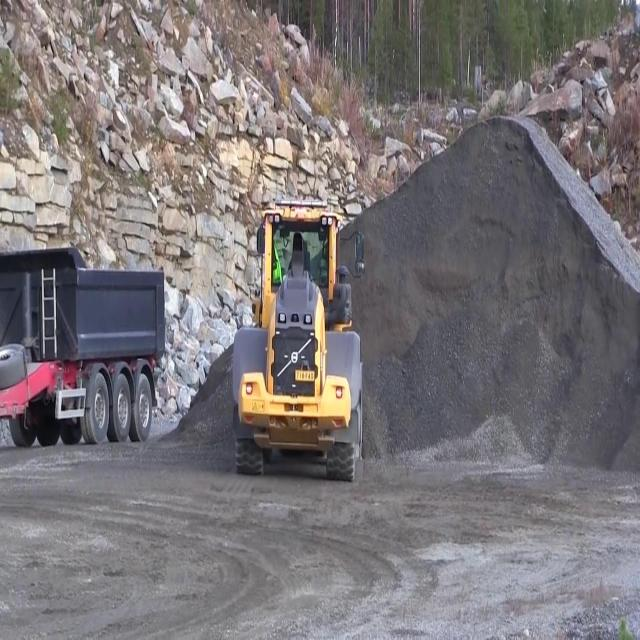buldozerpayloadergrader: (229, 198, 367, 483)
dump_truck: (1, 242, 166, 450)
